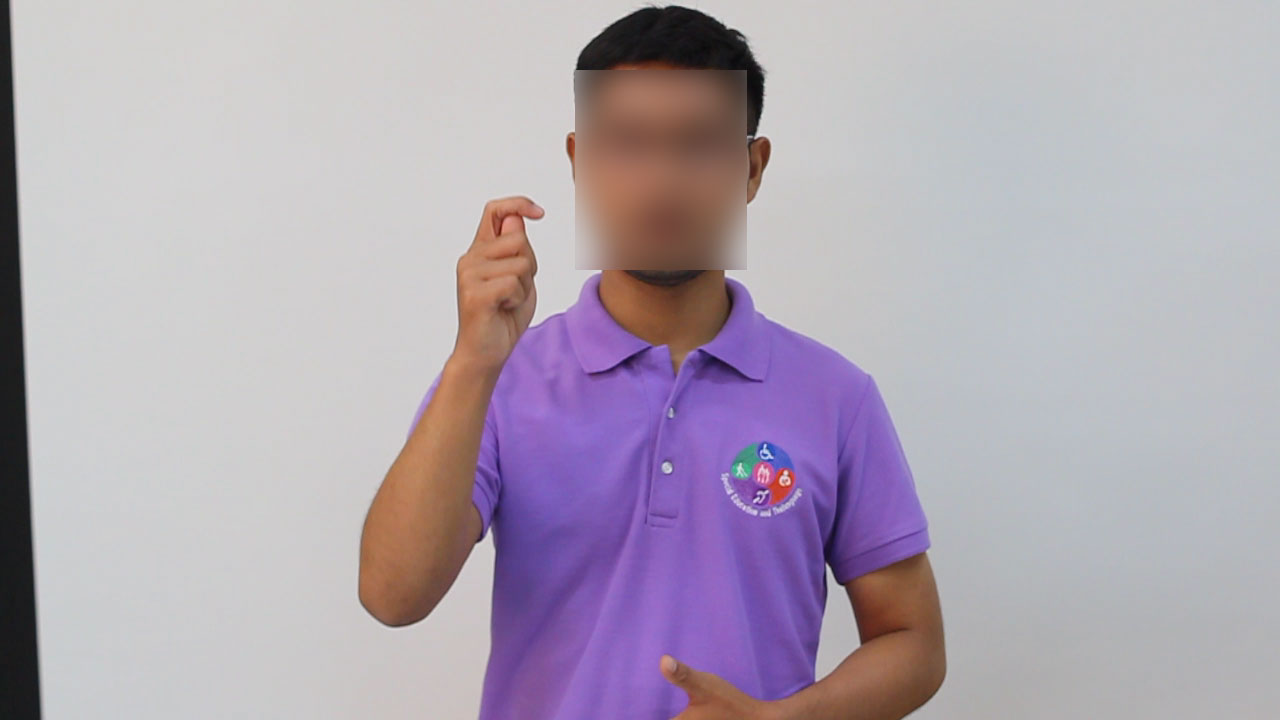or: (443, 191, 551, 376)
